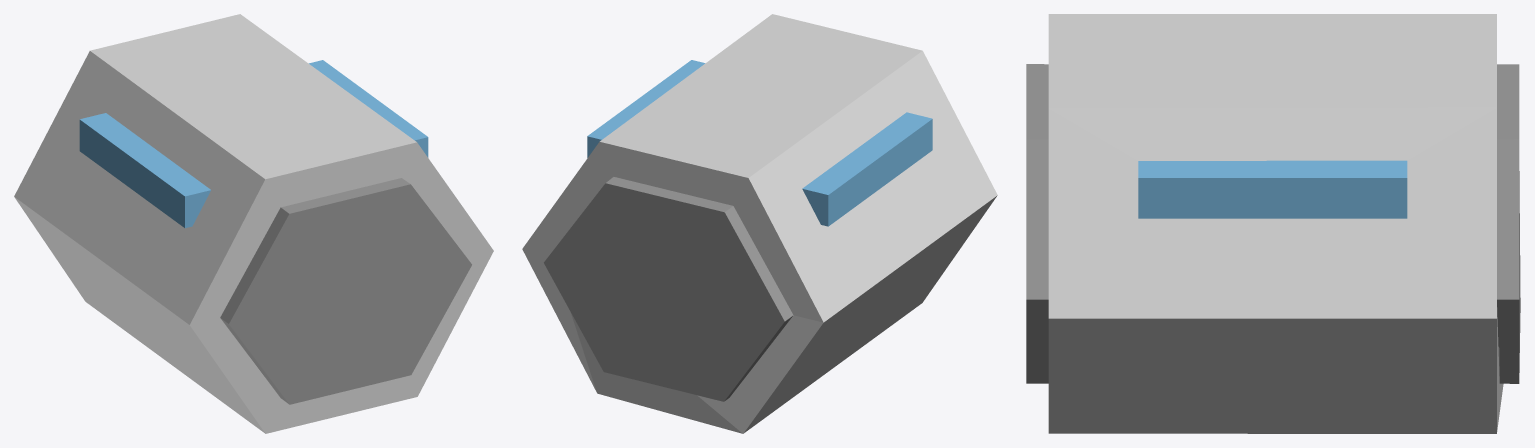
File: middle.glb
3 views of the same model, side by side, from view 1: azimuth 30°, elevation 25°; view 2: azimuth 150°, elevation 25°; view 3: azimuth 270°, elevation 25° (orthographic). The views are drawn at different scales.
Parts seen in each view (by area): view 1: Cube, Cube.003, Cube.002, Cube.001; view 2: Cube, Cube.004, Cube.002, Cube.001; view 3: Cube, Cube.001, Cube.003, Cube.004.
Boxes of the visible parts, x1=… form: Cube: x1=14, y1=14, x2=493, y2=433; Cube.003: x1=220, y1=178, x2=471, y2=404; Cube.002: x1=79, y1=113, x2=210, y2=228; Cube.001: x1=309, y1=60, x2=428, y2=157; Cube: x1=522, y1=14, x2=997, y2=433; Cube.004: x1=544, y1=177, x2=793, y2=401; Cube.002: x1=802, y1=112, x2=932, y2=226; Cube.001: x1=587, y1=60, x2=705, y2=157; Cube: x1=1048, y1=14, x2=1503, y2=433; Cube.001: x1=1138, y1=160, x2=1407, y2=218; Cube.003: x1=1026, y1=64, x2=1048, y2=383; Cube.004: x1=1497, y1=64, x2=1520, y2=383.
Size of the model in its own units: 2 by 1.6 by 2.21.
